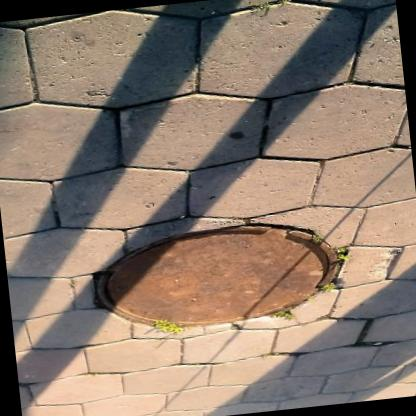manholes: (77, 189, 343, 348)
